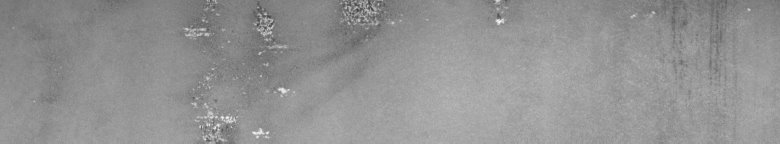hc: (488, 4, 508, 32)
